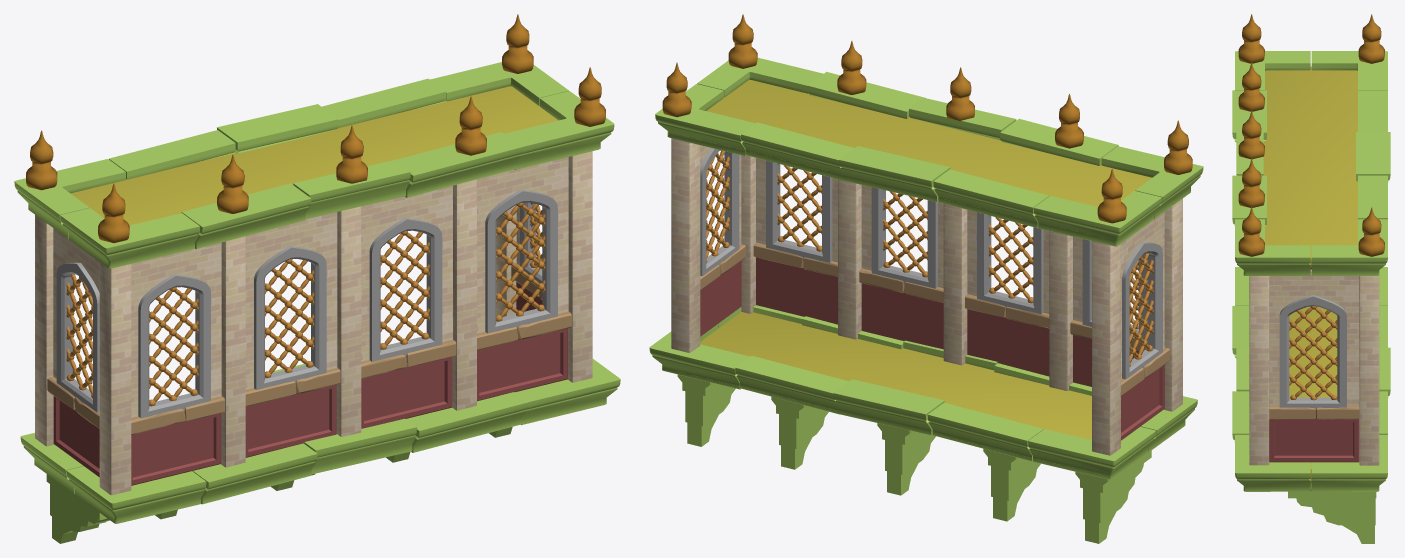
The model's file is SM_attachment_module_02.fbx.
The picture shows the model from 3 angles, left to right: view 1: azimuth 30°, elevation 25°; view 2: azimuth 150°, elevation 25°; view 3: azimuth 270°, elevation 25°; orthographic projection. The views are drawn at different scales.
Visible parts, largest first — view 1: attachment_desertkingdom; view 2: attachment_desertkingdom; view 3: attachment_desertkingdom.
Boxes of the visible parts, x1,y1,x2,y2 form: attachment_desertkingdom: (14,14,620,543); attachment_desertkingdom: (649,14,1203,543); attachment_desertkingdom: (1232,14,1390,543).
Size of the model in its own units: 311 by 238 by 99.66.
